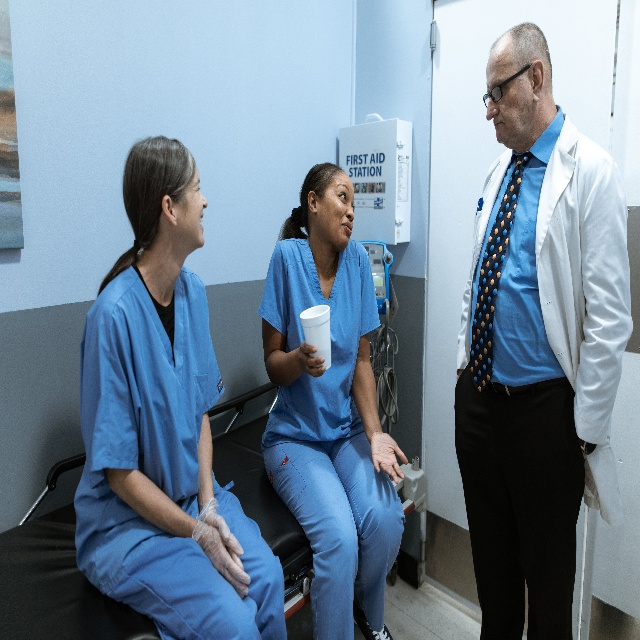Gafas: (483, 62, 532, 109)
Guantes: (197, 504, 249, 597)
Sin_guantes: (370, 428, 408, 483), (299, 343, 326, 376)
